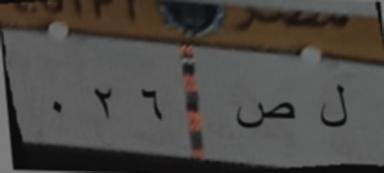0: (45, 88, 69, 122)
2: (89, 82, 118, 125)
6: (138, 81, 167, 130)
laam: (312, 77, 352, 137)
saad: (232, 93, 296, 138)
